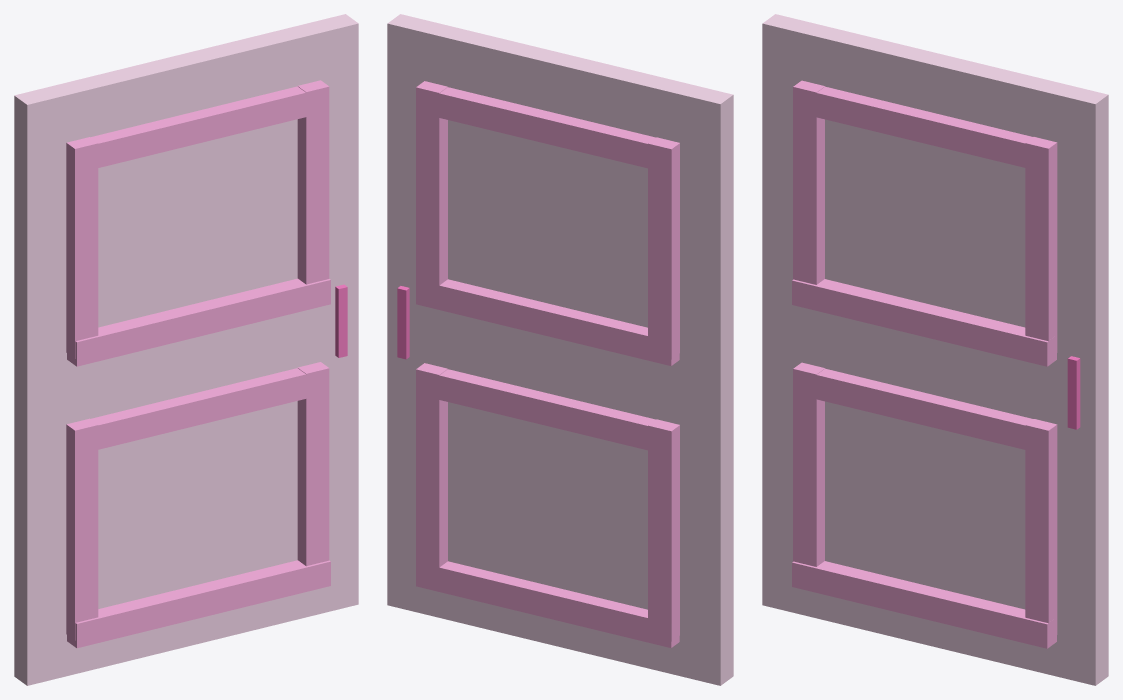
File: design door.fbx
3 views of the same model, side by side, from view 1: azimuth 30°, elevation 25°; view 2: azimuth 150°, elevation 25°; view 3: azimuth 330°, elevation 25° (orthographic).
Parts seen in each view (by area): view 1: Studio_Door; view 2: Studio_Door; view 3: Studio_Door.
Boxes of the visible parts, bbox=[...] form: Studio_Door: bbox=[14, 14, 358, 685]; Studio_Door: bbox=[387, 14, 733, 685]; Studio_Door: bbox=[762, 14, 1108, 685].
Bounding box in the file's own units: 286 × 478 × 49.65.
1 material, 1 textured.
